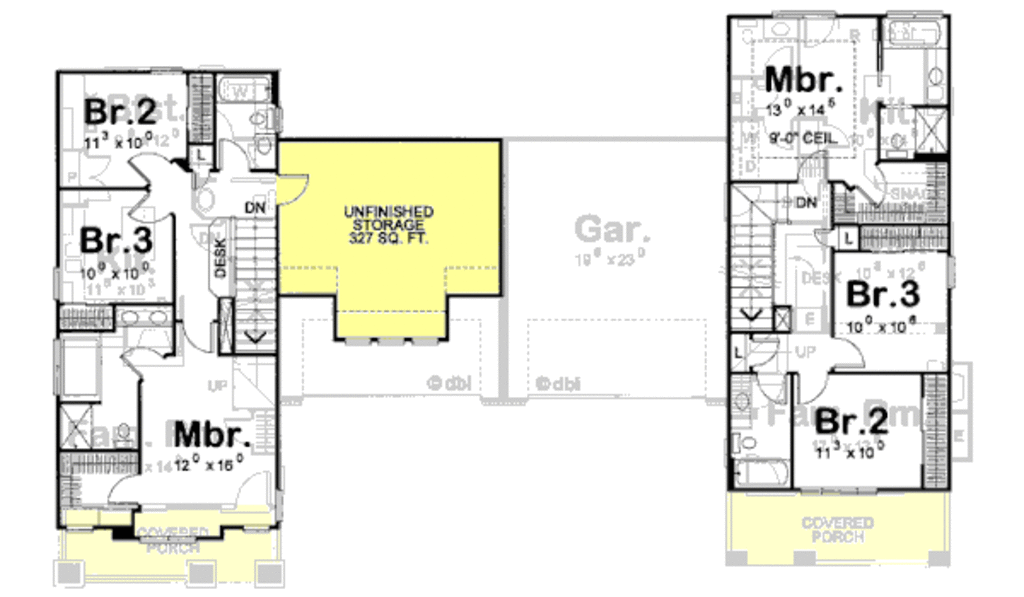door: (112, 342, 170, 379), (856, 158, 891, 216), (73, 156, 114, 204), (174, 315, 216, 356), (793, 144, 832, 188), (267, 169, 310, 208), (823, 331, 866, 370), (128, 188, 172, 225), (189, 223, 233, 260), (126, 151, 172, 186), (755, 369, 795, 408), (236, 467, 272, 510), (762, 46, 797, 86), (802, 16, 839, 52), (215, 135, 248, 171), (795, 372, 827, 408), (730, 184, 761, 221), (107, 473, 141, 504), (748, 335, 779, 369), (813, 222, 839, 252)
large_sink: (245, 104, 287, 131), (887, 129, 914, 160), (109, 420, 138, 447), (728, 432, 757, 456)
small_sink: (114, 304, 177, 326)
stairs: (234, 219, 279, 358), (730, 220, 781, 331)
tub: (215, 71, 277, 104), (734, 462, 793, 487)
window: (788, 475, 886, 498), (342, 331, 448, 350)
